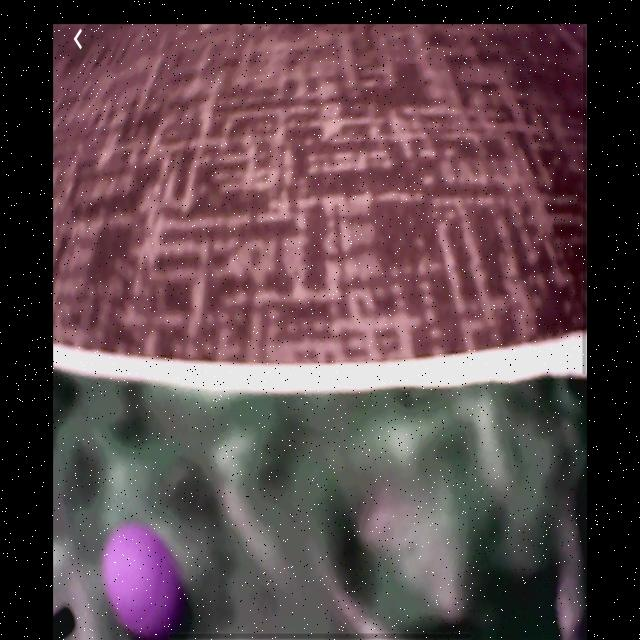ball: (101, 522, 191, 639)
